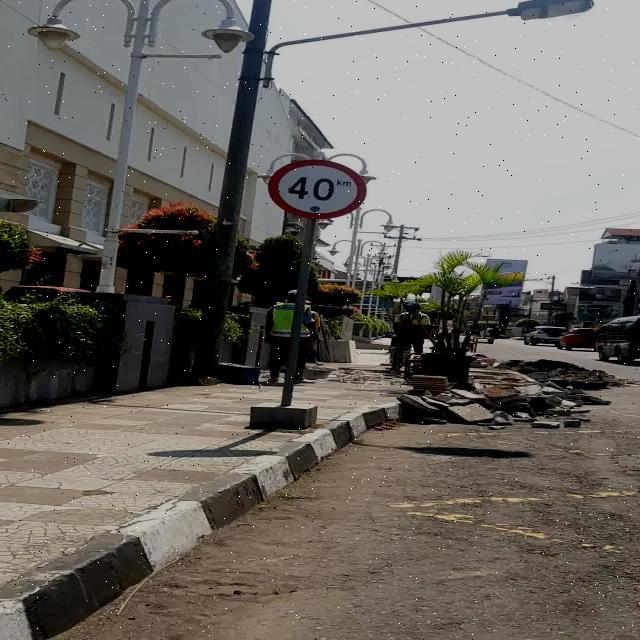Kecepatan Maks. 40 km: (266, 160, 366, 220)
